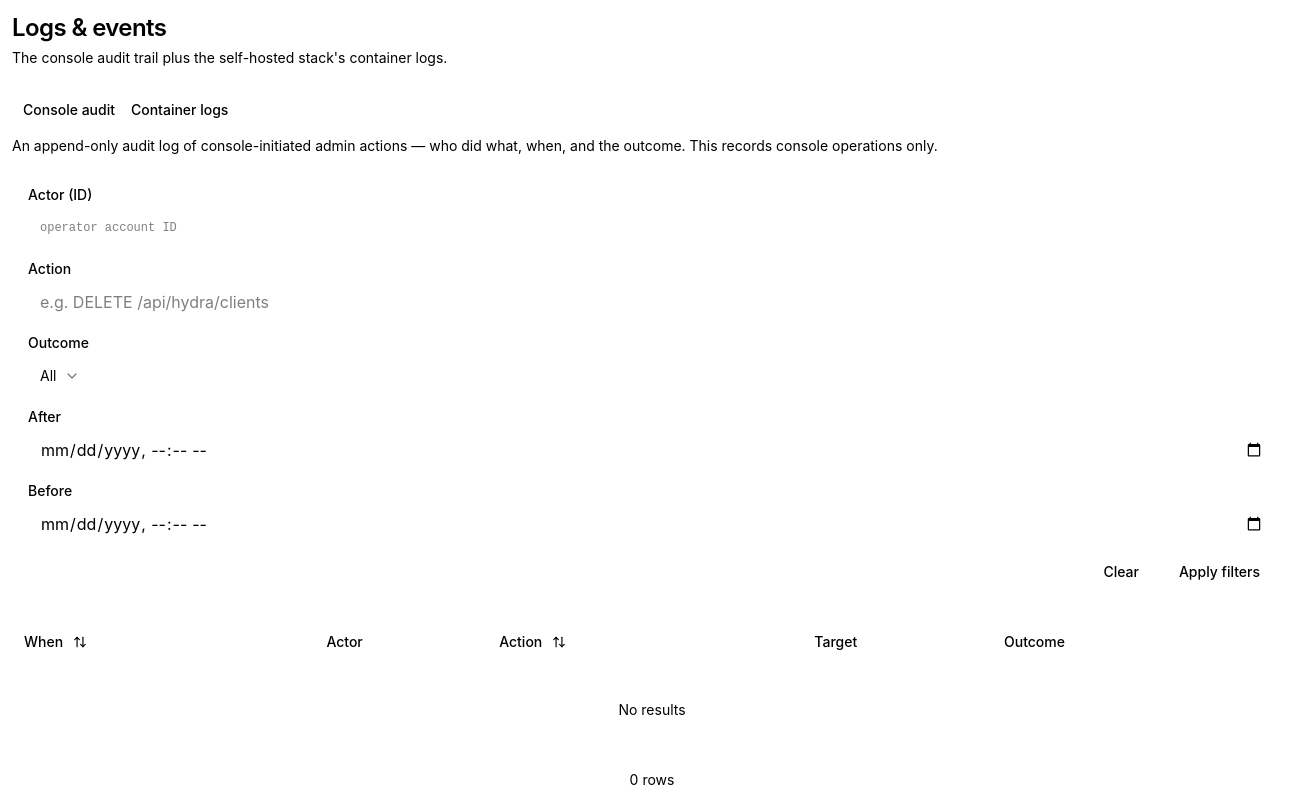
Scenario: Logs & events page (ACT-04 + OBS-04) › Container logs OFF: shows the FeatureGate disabled state
Click the tab "Container logs" at point(180, 110), box [123, 96, 236, 124]
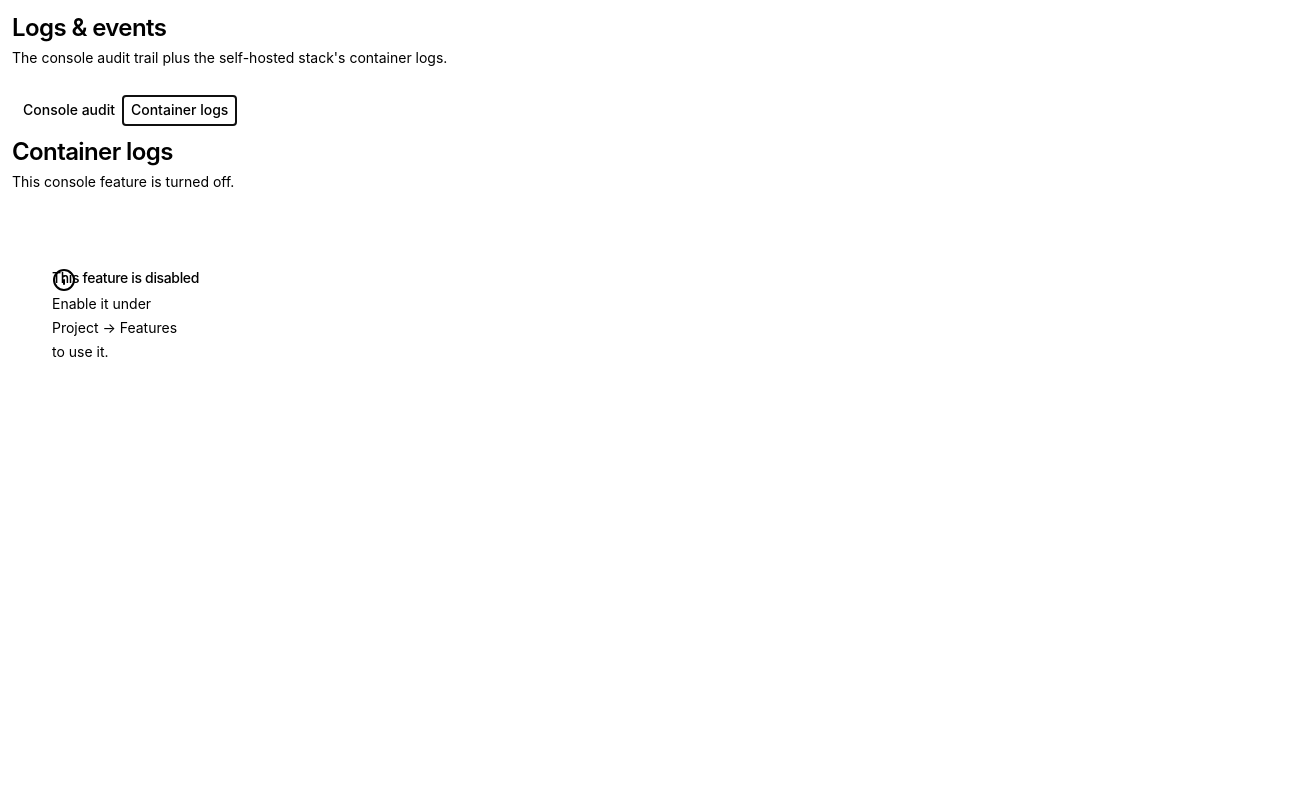
Check: the heading "This feature is disabled" is shown, box [52, 269, 199, 286]
